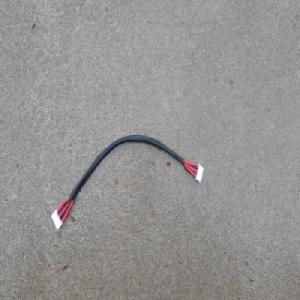Wire: (50, 131, 205, 231)
